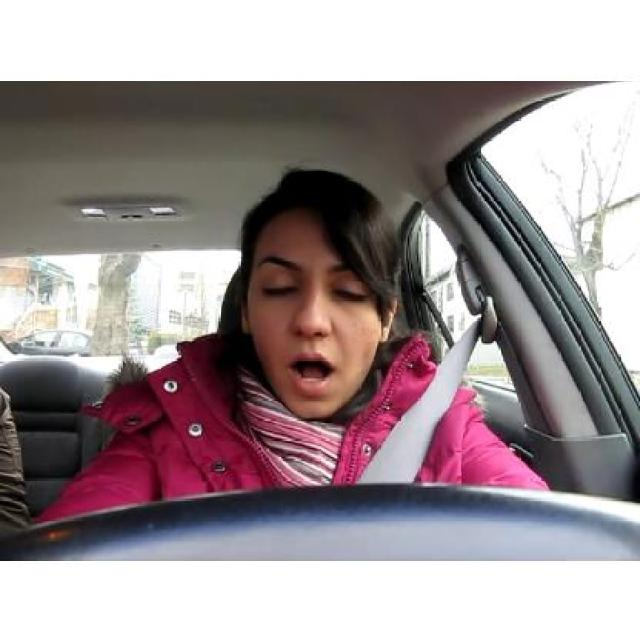inattentif: (235, 166, 398, 419)
